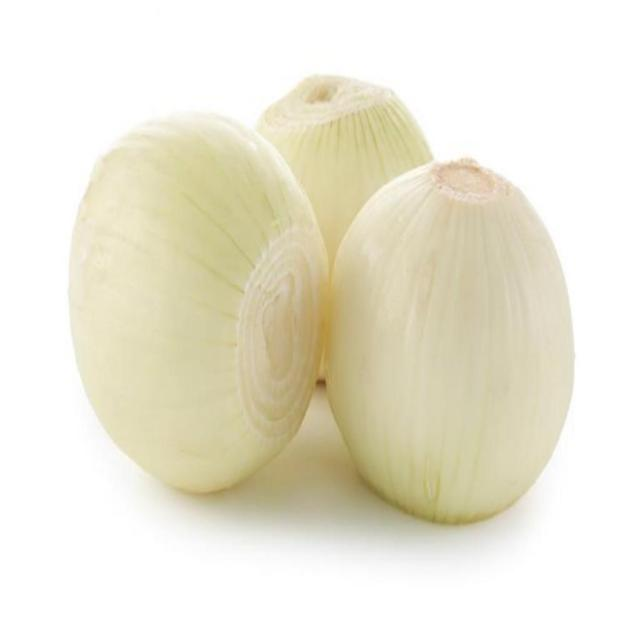Onion: (68, 108, 330, 491), (328, 159, 573, 522), (256, 72, 434, 382)
